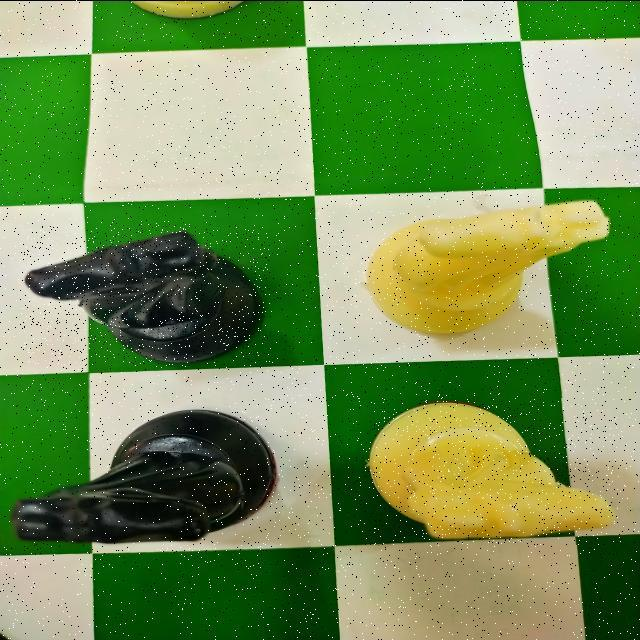black-knight: (6, 403, 280, 551), (18, 222, 270, 364)
white-knight: (354, 192, 614, 345), (360, 397, 624, 544)
